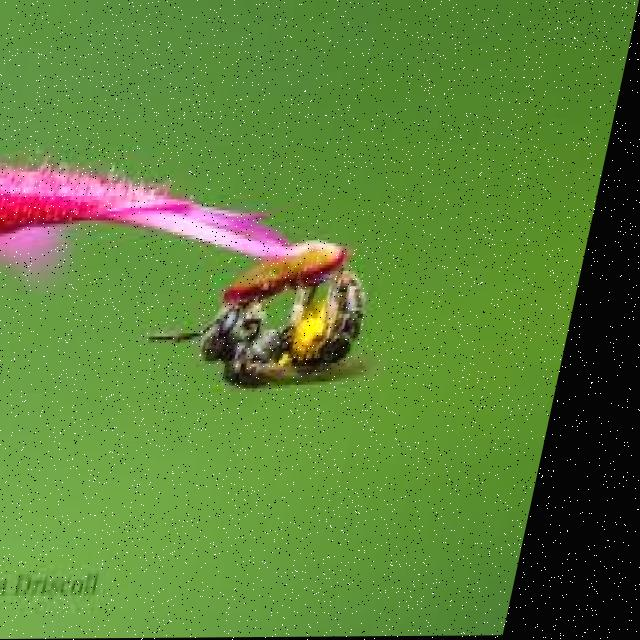Lasioglossum: (155, 236, 425, 403)
